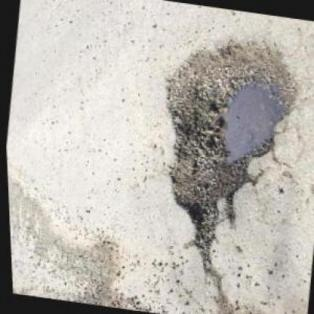Hueco: (139, 28, 308, 251)
